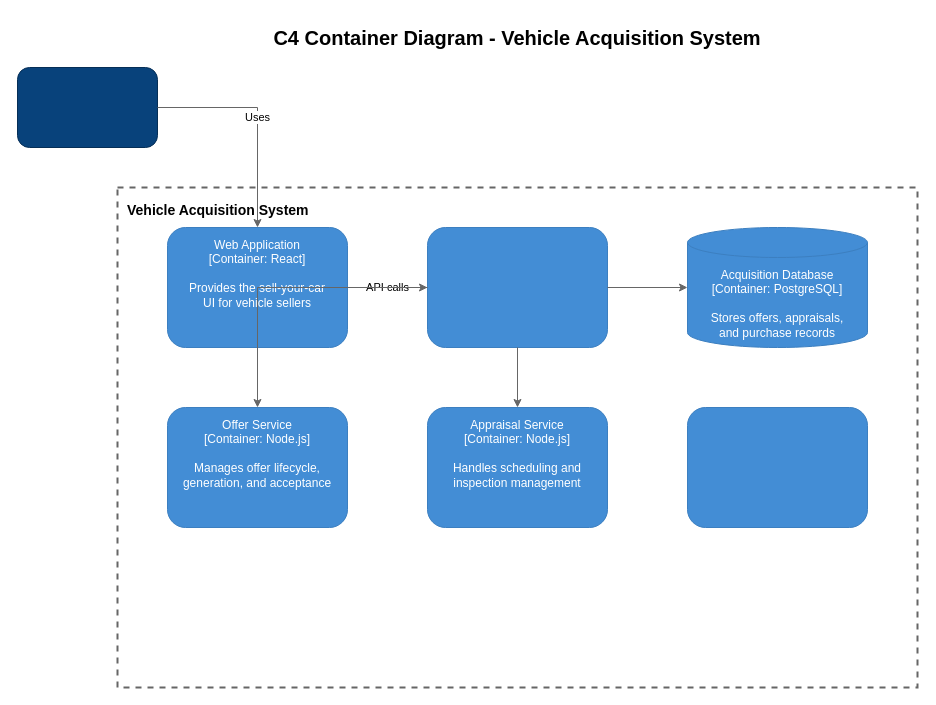
Some shapes in this 936 by 705 pixel diagram are drawn without their labels. Here are the shapes that lost their labels. From the top down, the centre of each, then its label:
At (x=87, y=107): "Vehicle Seller [Person]".
At (x=517, y=287): "API Gateway [Container: Node.js] Handles all API requests for acquisition flow".
At (x=777, y=467): "Purchase Service [Container: Node.js] Processes purchases and payments".
